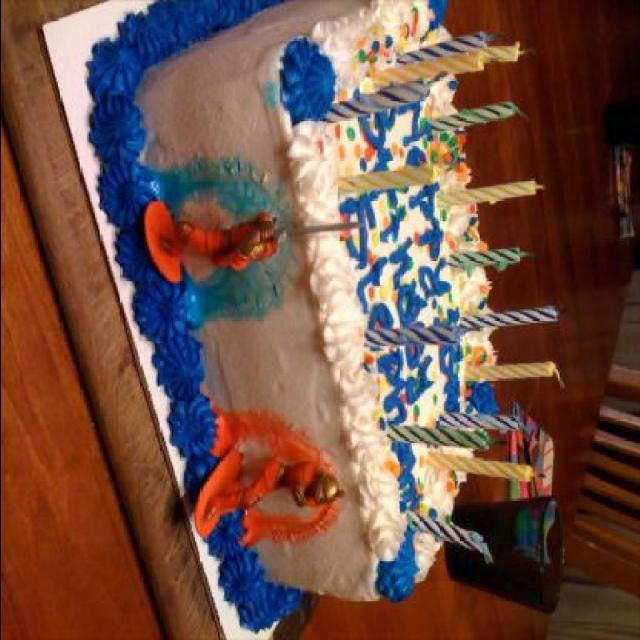Cake: (87, 0, 498, 632)
